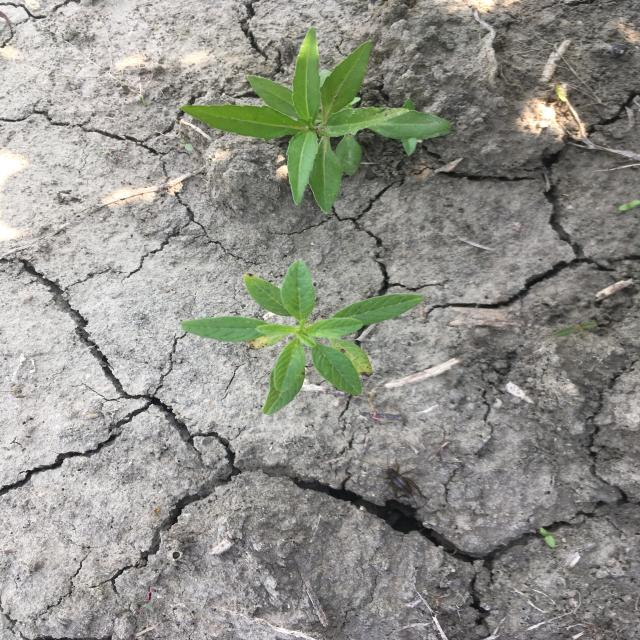Eclipta: (180, 26, 454, 216)
Waterhemp: (177, 258, 425, 417)
